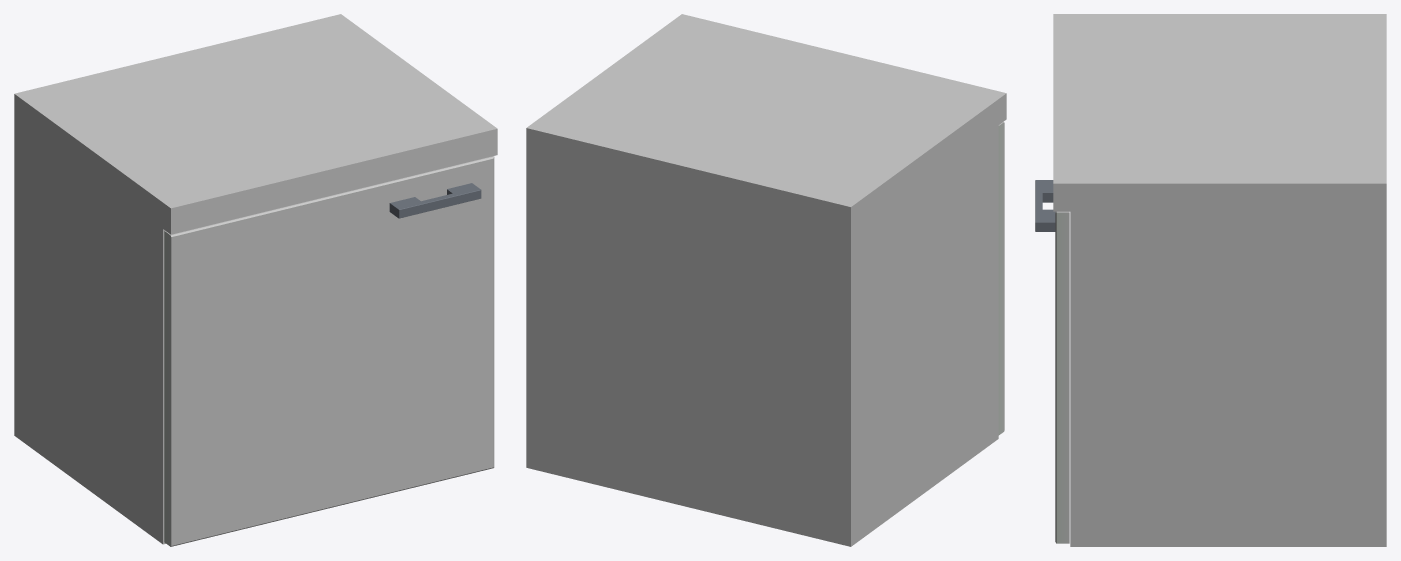
Rendered from peruskaappi_GJ22.fbx.
3 views of the same model, side by side, from view 1: azimuth 30°, elevation 25°; view 2: azimuth 150°, elevation 25°; view 3: azimuth 270°, elevation 25° (orthographic). The views are drawn at different scales.
Parts seen in each view (by area): view 1: Kaappi, Ovi; view 2: Kaappi, Ovi; view 3: Kaappi, Ovi.
Boxes of the visible parts, bbox=[...] form: Kaappi: bbox=[14, 14, 497, 544]; Ovi: bbox=[164, 156, 494, 546]; Kaappi: bbox=[526, 14, 1006, 546]; Ovi: bbox=[998, 122, 1004, 435]; Kaappi: bbox=[1053, 14, 1386, 546]; Ovi: bbox=[1035, 180, 1069, 543].
Size of the model in its own units: 100 by 100 by 87.57.
